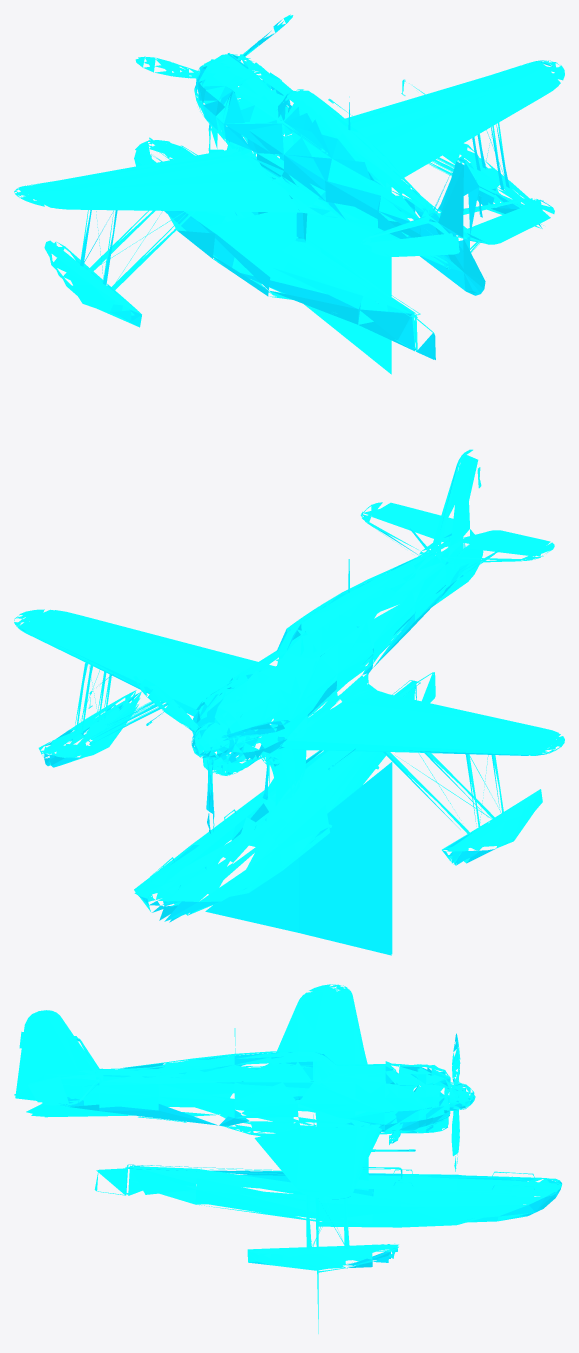
File: PFAF005.glb
3 renders of one model, top to bottom at view 1: azimuth 30°, elevation 25°; view 2: azimuth 150°, elevation 25°; view 3: azimuth 270°, elevation 25°, orthographic. The views are drawn at different scales.
Parts seen in each view (by area): view 1: misc; view 2: misc; view 3: misc.
Boxes of the visible parts, bbox=[...] form: misc: bbox=[14, 14, 564, 374]; misc: bbox=[14, 449, 564, 955]; misc: bbox=[14, 984, 562, 1333].
Size of the model in its own units: 0.7134 by 0.4518 by 0.7731.
